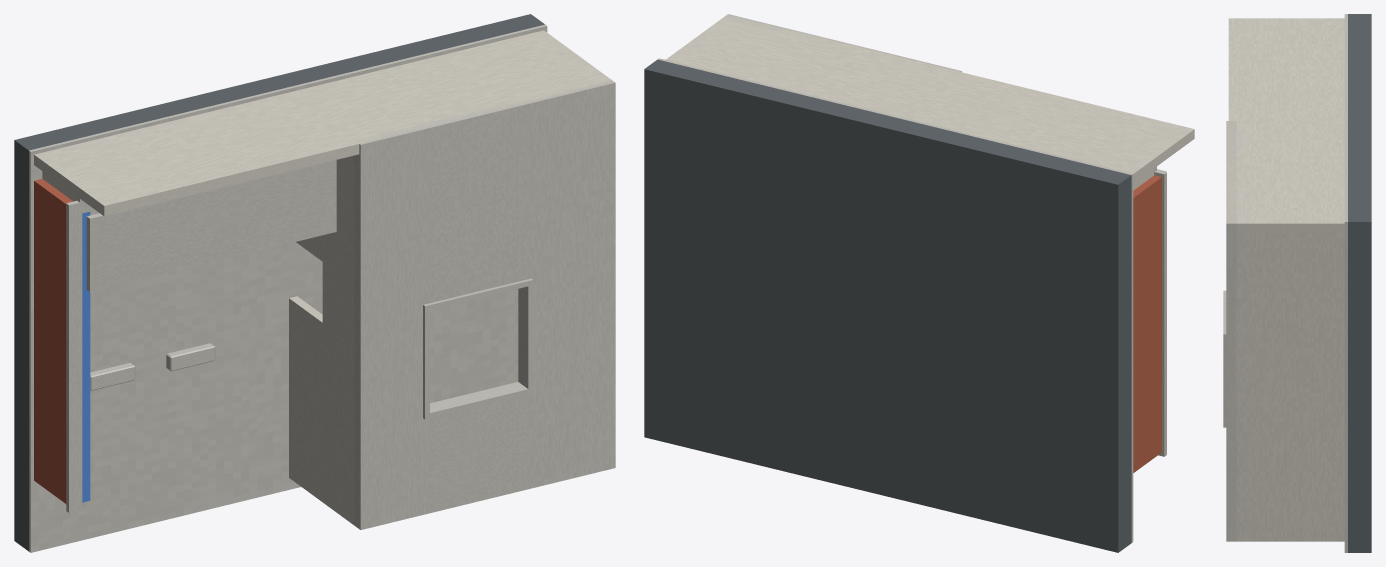
Rendered from parent.glb.
The picture shows the model from 3 angles, left to right: view 1: azimuth 30°, elevation 25°; view 2: azimuth 150°, elevation 25°; view 3: azimuth 270°, elevation 25°; orthographic projection. The views are drawn at different scales.
Size of the model in its own units: 31 by 23 by 9.35.
9 materials, 4 textured.
